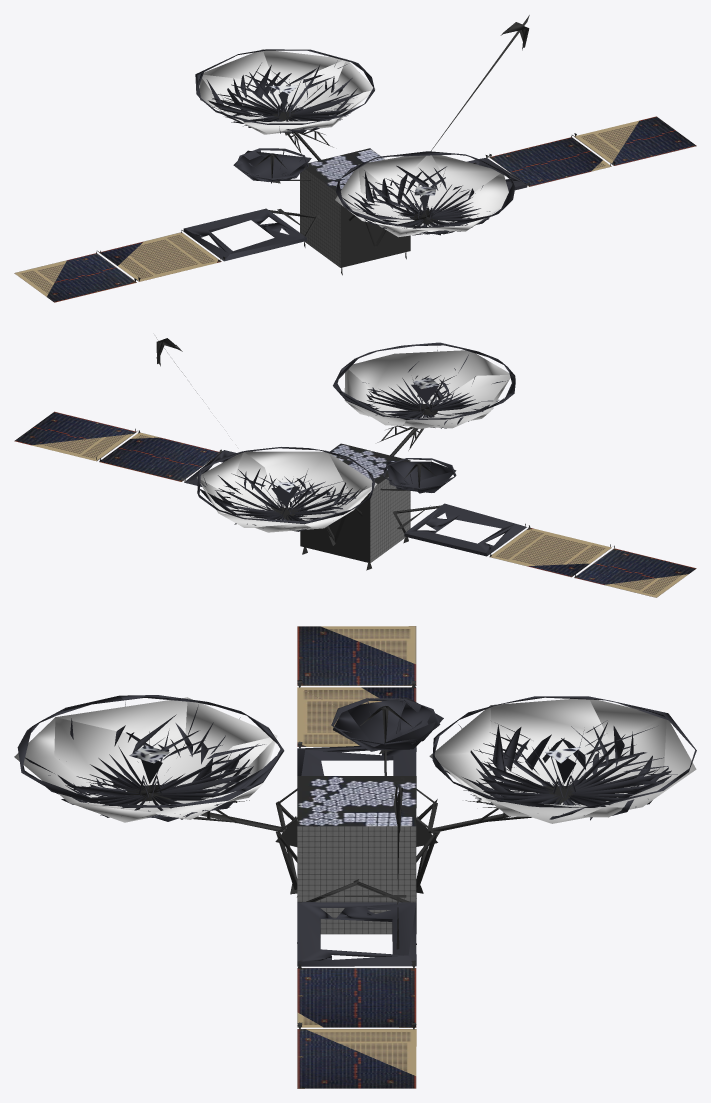
The model's file is tdrs_lod2.glb.
3 renders of one model, top to bottom at view 1: azimuth 30°, elevation 25°; view 2: azimuth 150°, elevation 25°; view 3: azimuth 270°, elevation 25°, orthographic. The views are drawn at different scales.
Visible parts, largest first — view 1: tdrs_lod2; view 2: tdrs_lod2; view 3: tdrs_lod2.
Part boxes in pixels (left/top/right/bottom): tdrs_lod2: left=14, top=15, right=696, bottom=302; tdrs_lod2: left=14, top=337, right=696, bottom=597; tdrs_lod2: left=14, top=626, right=696, bottom=1088.
Size of the model in its own units: 20.75 by 5.61 by 12.95.
5 materials, 3 textured.
